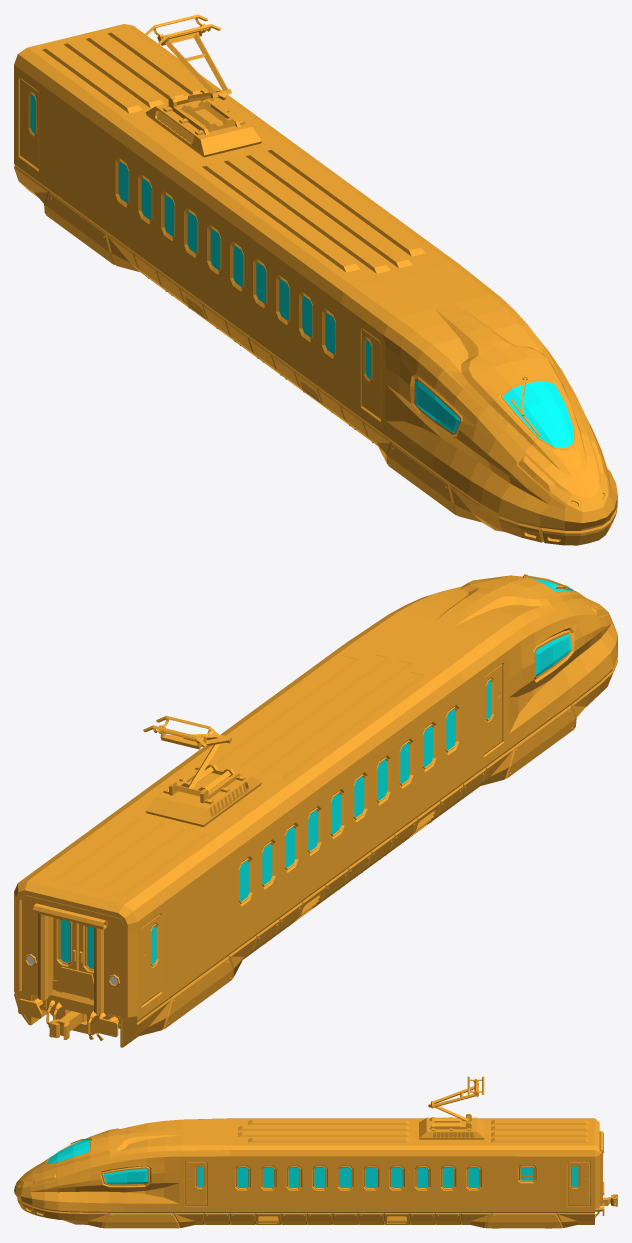
File: SM_Train_Locomotive_Sakura_B.fbx
The picture shows the model from 3 angles, top to bottom: view 1: azimuth 30°, elevation 25°; view 2: azimuth 150°, elevation 25°; view 3: azimuth 270°, elevation 25°; orthographic projection. The views are drawn at different scales.
Visible parts, largest first — view 1: SM_Train_Locomotive_Sakura_B_Base; view 2: SM_Train_Locomotive_Sakura_B_Base, SM_Train_Locomotive_Sakura_B_Base_Joint_B; view 3: SM_Train_Locomotive_Sakura_B_Base.
Boxes of the visible parts, x1=… form: SM_Train_Locomotive_Sakura_B_Base: x1=14, y1=14, x2=617, y2=545; SM_Train_Locomotive_Sakura_B_Base: x1=14, y1=574, x2=617, y2=1047; SM_Train_Locomotive_Sakura_B_Base_Joint_B: x1=49, y1=1011, x2=86, y2=1039; SM_Train_Locomotive_Sakura_B_Base: x1=14, y1=1076, x2=604, y2=1228.
Size of the model in its own units: 3.04 by 5.68 by 22.73.
